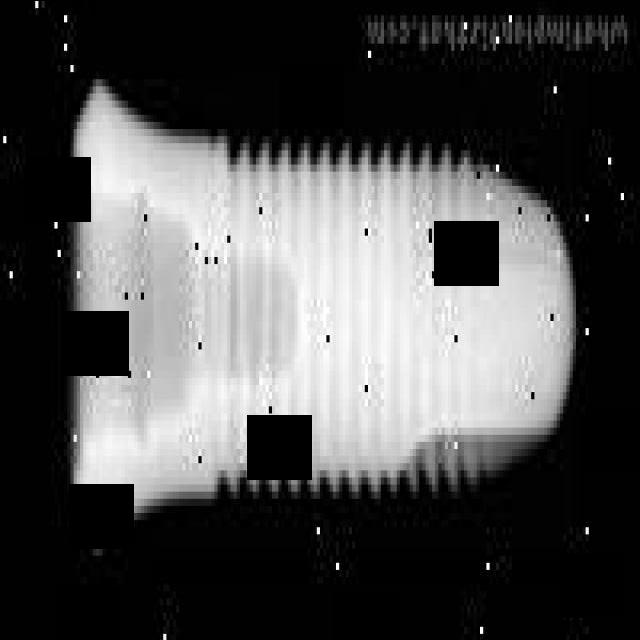OCO Biomedical Implant: (74, 78, 579, 555)
